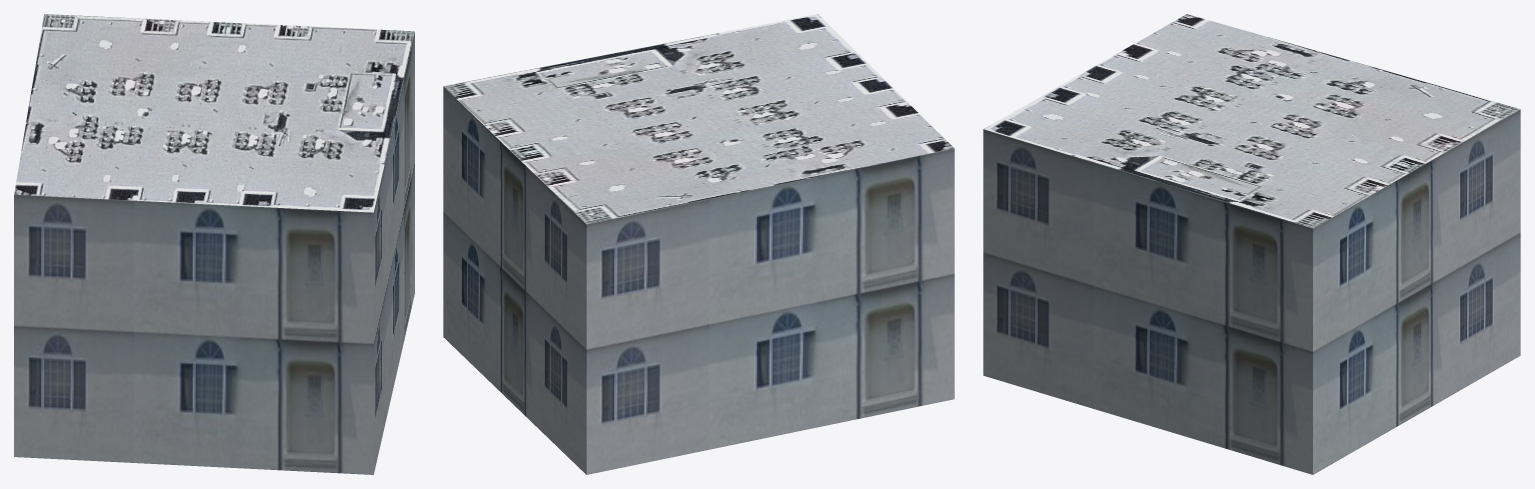
Rendered from ResTex__2002.fbx.
The picture shows the model from 3 angles, left to right: view 1: azimuth 30°, elevation 25°; view 2: azimuth 150°, elevation 25°; view 3: azimuth 270°, elevation 25°; orthographic projection. The views are drawn at different scales.
Parts seen in each view (by area): view 1: CityEngineMaterial_17_m, CityEngineMaterial_2_m; view 2: CityEngineMaterial_17_m, CityEngineMaterial_2_m; view 3: CityEngineMaterial_17_m, CityEngineMaterial_2_m.
Boxes of the visible parts, x1=… form: CityEngineMaterial_17_m: x1=14, y1=32, x2=414, y2=474; CityEngineMaterial_2_m: x1=14, y1=14, x2=414, y2=212; CityEngineMaterial_17_m: x1=443, y1=86, x2=954, y2=474; CityEngineMaterial_2_m: x1=443, y1=14, x2=954, y2=224; CityEngineMaterial_17_m: x1=983, y1=109, x2=1520, y2=474; CityEngineMaterial_2_m: x1=983, y1=14, x2=1520, y2=228.
Size of the model in its own units: 11.2 by 6 by 11.85.
Materials: 2 (2 with a texture image).
